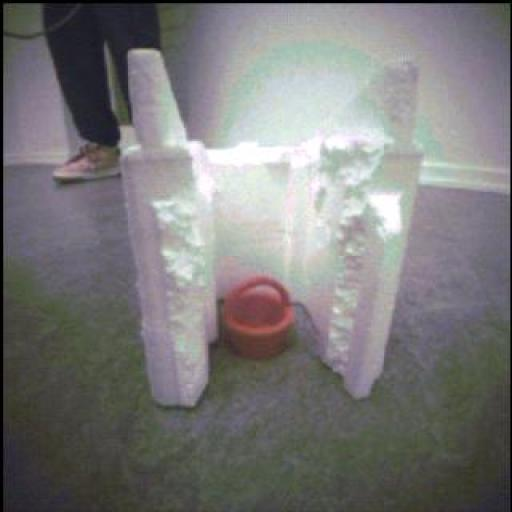Bucket: (225, 275, 298, 367)
